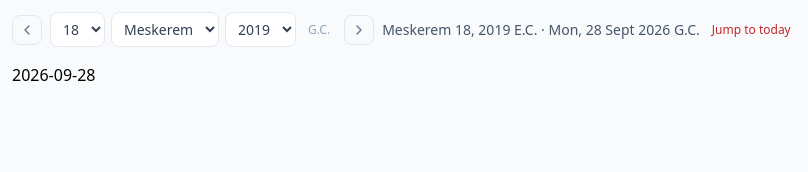
Test: DateNav is E.C.-first and stores the Gregorian key › choosing an E.C. day stores the matching Gregorian key
Select "19" in the dropdown named "Ethiopian day" at (78,30), box top-left (50, 12), bottom-right (105, 47)
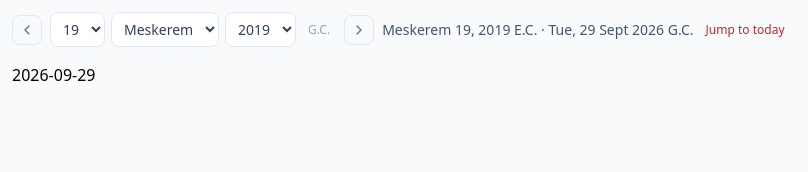
Result: the text with test id "key" reads "2026-09-29" at top-left (12, 64), bottom-right (96, 86)
Select "Tikimt" in the dropdown named "Ethiopian month" at (165,30), box top-left (111, 12), bottom-right (219, 47)
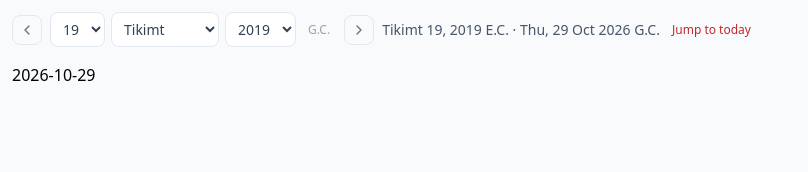
Result: the text with test id "key" reads "2026-10-29" at top-left (12, 64), bottom-right (96, 86)
